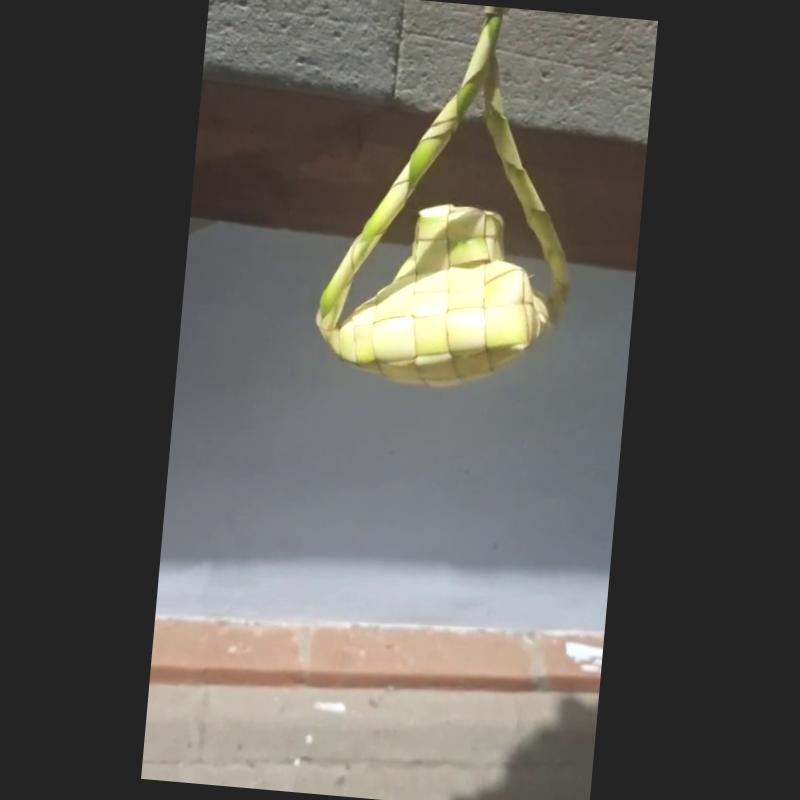Tipat Gong: (316, 7, 570, 399)
